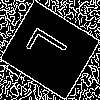L: (25, 24, 77, 72)
